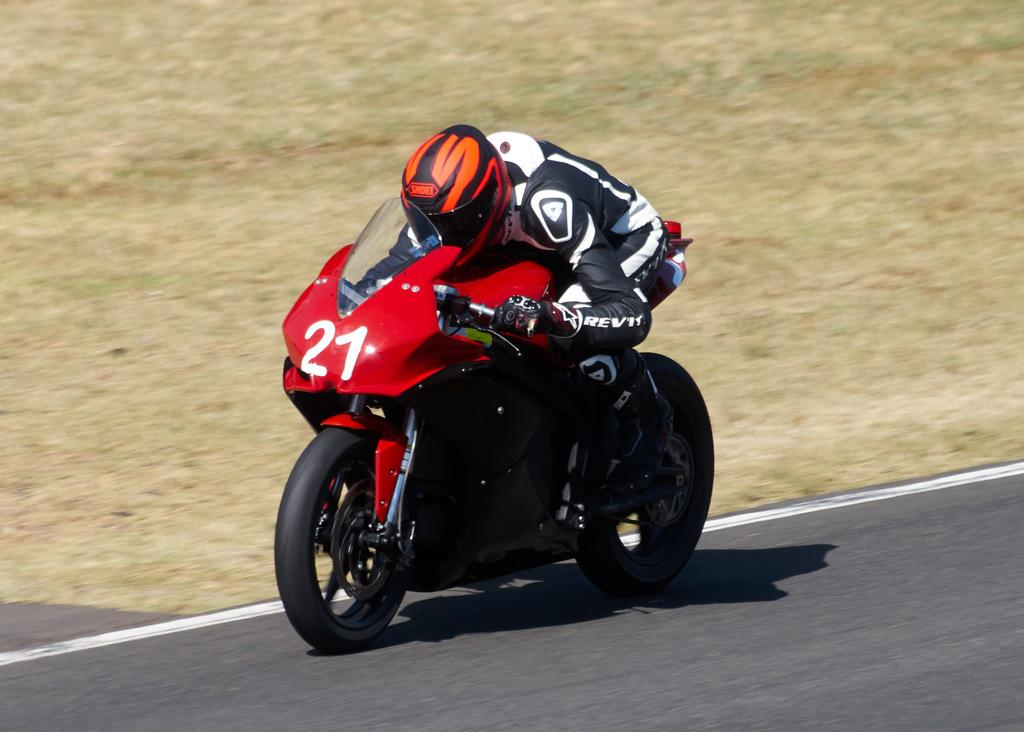helmet: (400, 124, 513, 271)
